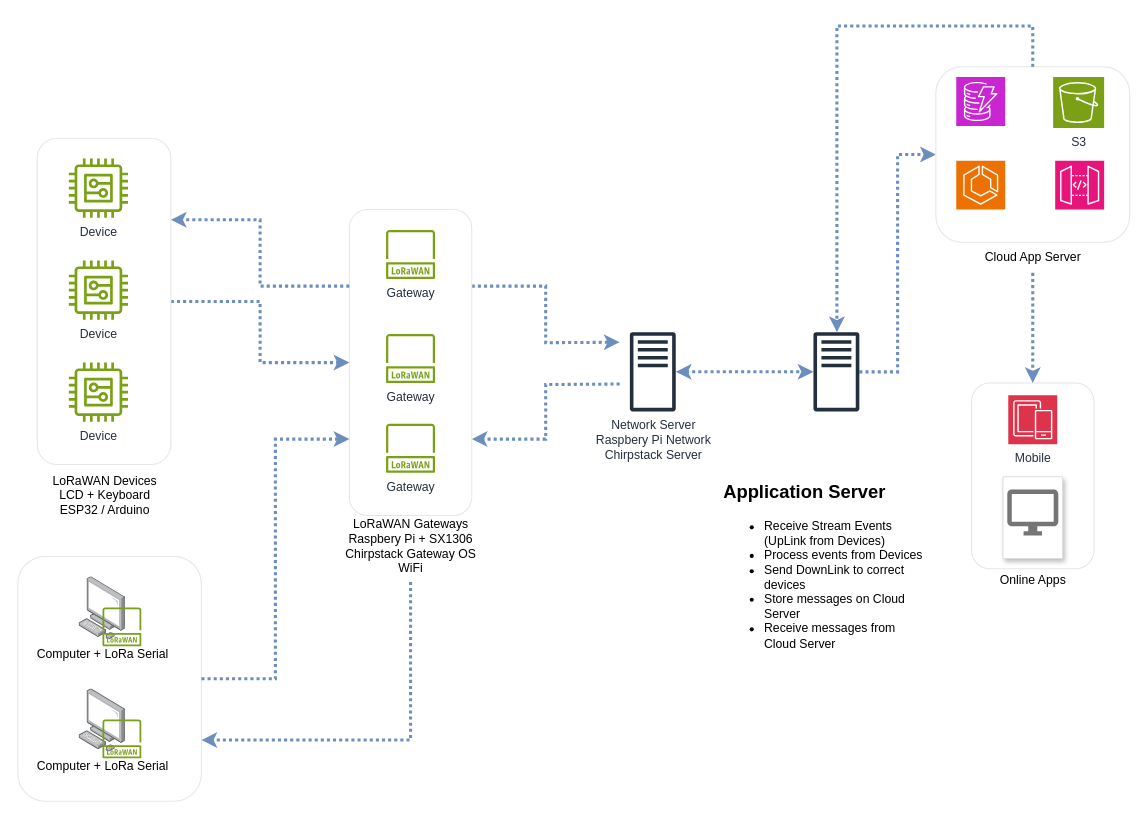
The diagram is 1148 pixels wide and 819 high, and some of its shapes have lost their labels. Each missing label, with the centre of its shape:
API Gateway: the point at 1079,185
Application Server Off-Grid / Online: the point at 836,371
AWS ECS: the point at 980,185
Desktop: the point at 1033,519
DynamDB: the point at 980,101
